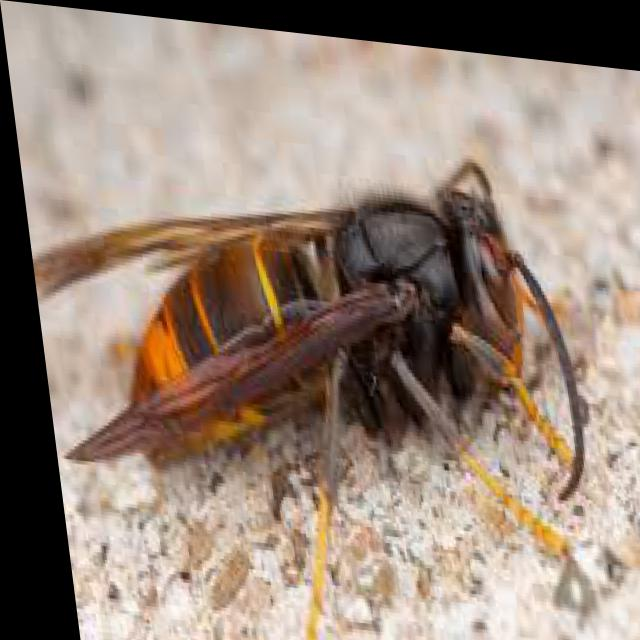Vespa Velutina: (9, 90, 613, 639)
